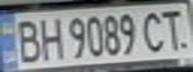0: (84, 11, 106, 57)
8: (103, 11, 124, 57)
9: (63, 12, 87, 60), (118, 10, 142, 56)
B: (9, 16, 45, 64)
C: (139, 7, 172, 54)
H: (33, 14, 66, 62)
T: (157, 6, 190, 52)
